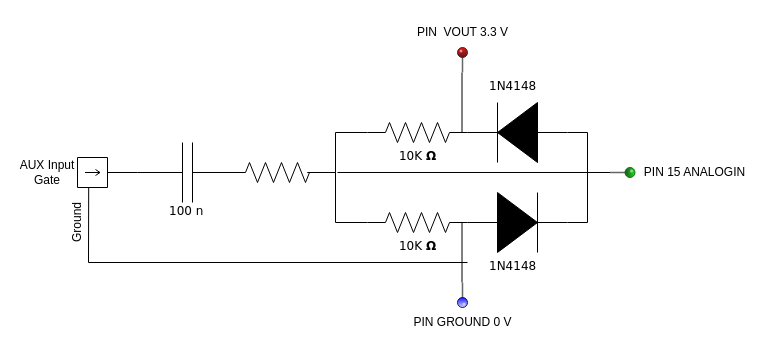
This 769x354 diagram has some shape labels left out. The centre of each missing label's shape, as x and y in pixels:
100 Ω: (x=277, y=172)
LT (Left): (x=187, y=172)
